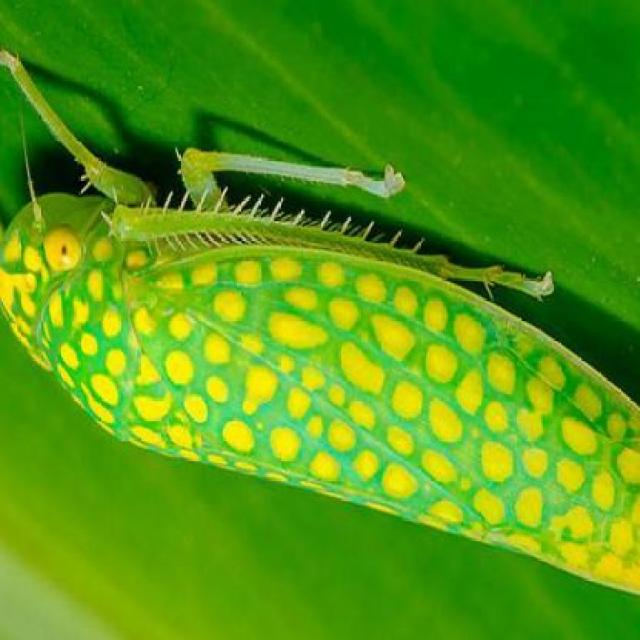green-leafhopper: (3, 177, 640, 586)
